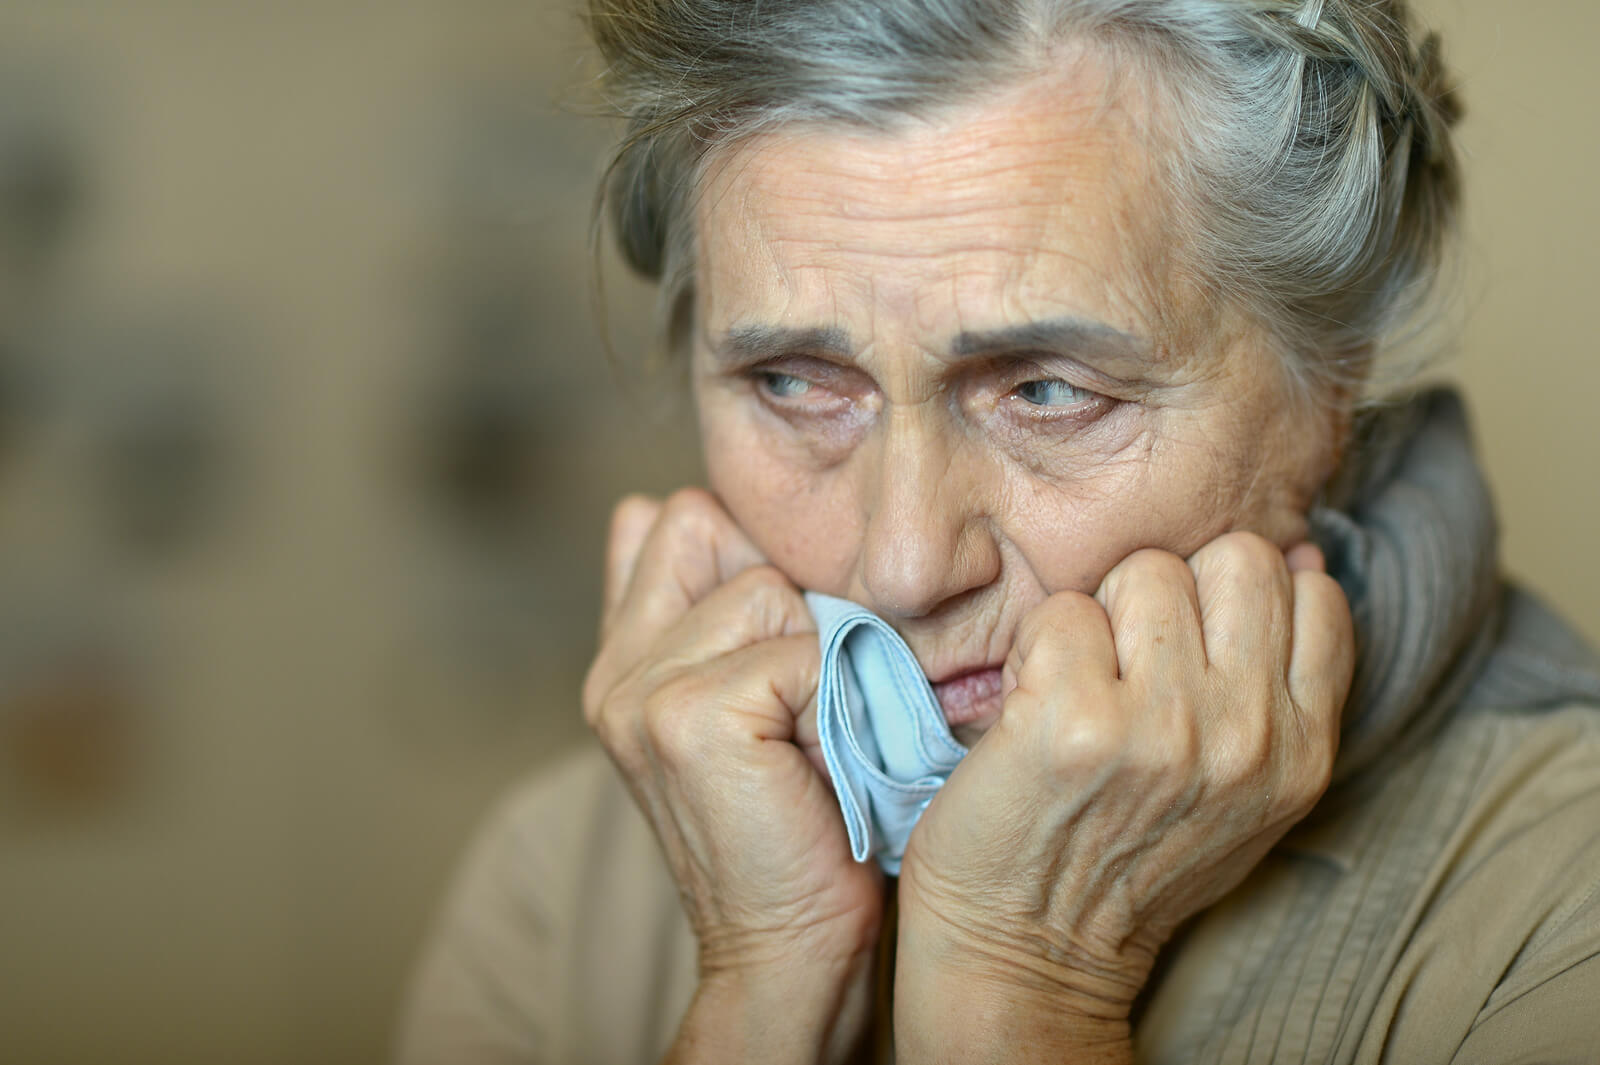human: (368, 4, 1600, 1065)
